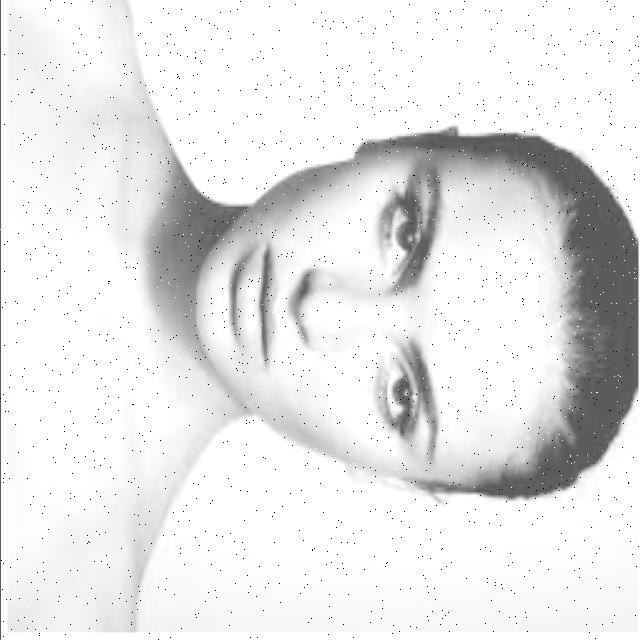face_no_mask: (189, 120, 568, 500)
